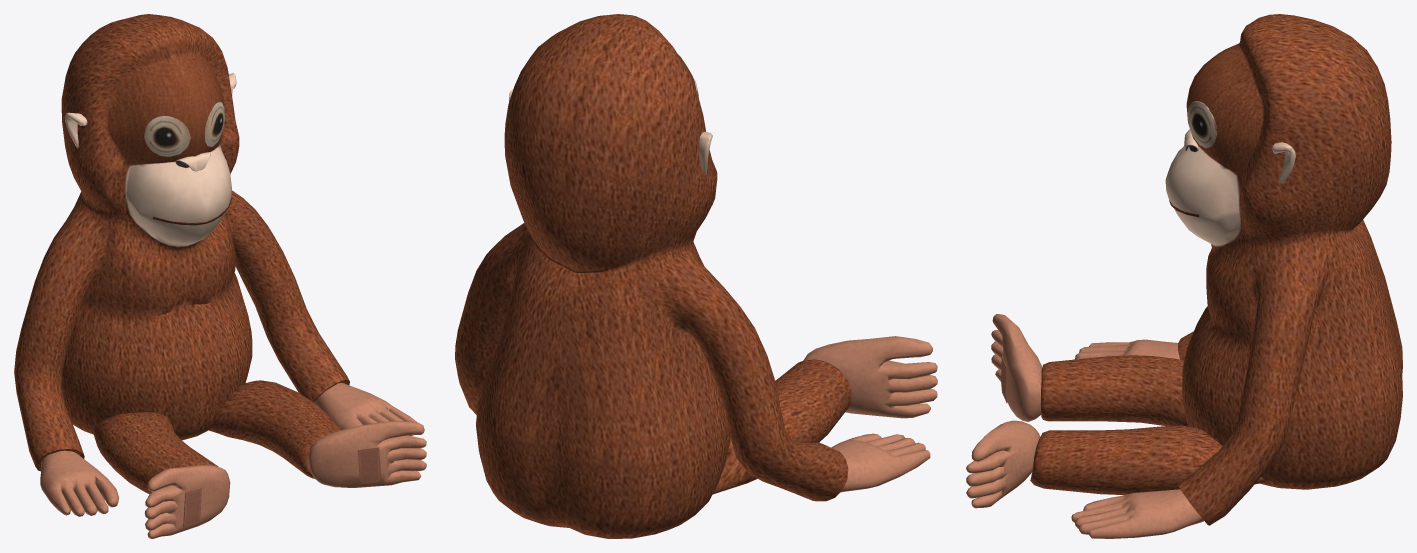
File: djungelskog_pluszak_00402808.glb
3 renders of one model, left to right at view 1: azimuth 30°, elevation 25°; view 2: azimuth 150°, elevation 25°; view 3: azimuth 270°, elevation 25°, orthographic. The views are drawn at different scales.
Parts seen in each view (by area): view 1: djungelskog_pluszak_00402808; view 2: djungelskog_pluszak_00402808; view 3: djungelskog_pluszak_00402808.
Part boxes in pixels (box(x1,y1,x2,y2)): djungelskog_pluszak_00402808: box(14, 14, 426, 538); djungelskog_pluszak_00402808: box(455, 14, 937, 538); djungelskog_pluszak_00402808: box(966, 14, 1402, 538).
Size of the model in its own units: 0.5615 by 0.5982 by 0.5468.
1 material, 1 textured.
